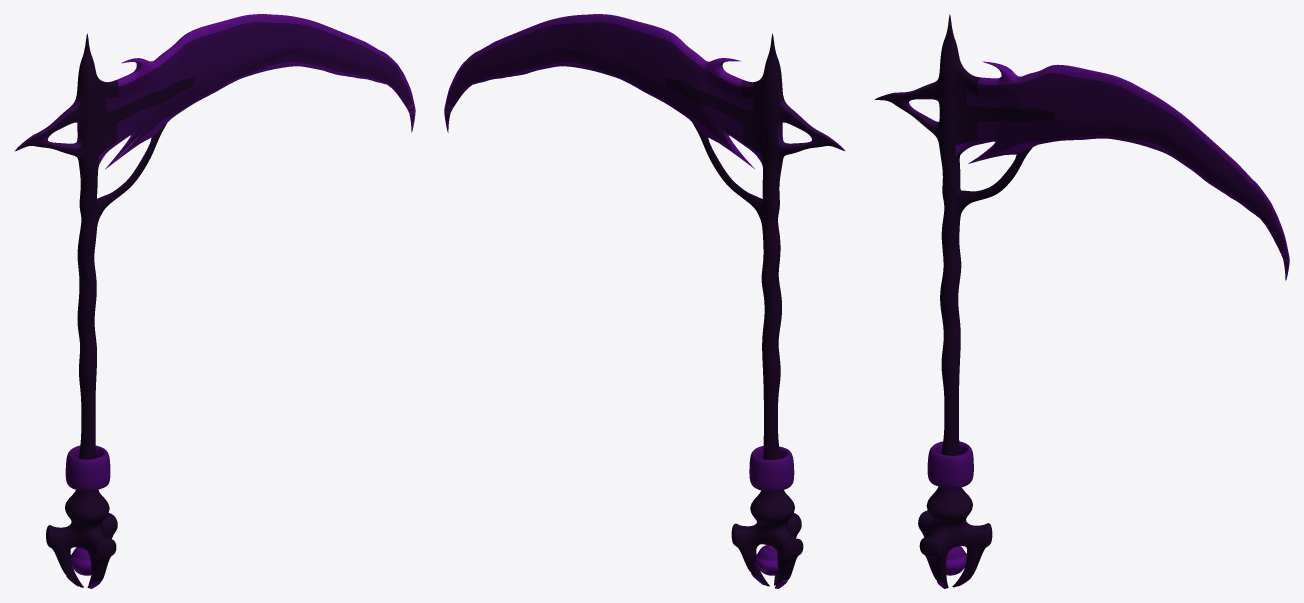
File: finalR.fbx
The picture shows the model from 3 angles, left to right: view 1: azimuth 30°, elevation 25°; view 2: azimuth 150°, elevation 25°; view 3: azimuth 330°, elevation 25°; orthographic projection. The views are drawn at different scales.
Visible parts, largest first — view 1: Cube; view 2: Cube; view 3: Cube.
Part boxes in pixels (x1,y1,x2,y2): Cube: [14, 14, 415, 588]; Cube: [444, 14, 845, 588]; Cube: [875, 14, 1289, 588].
Bounding box in the file's own units: 1599 × 2109 × 238.
